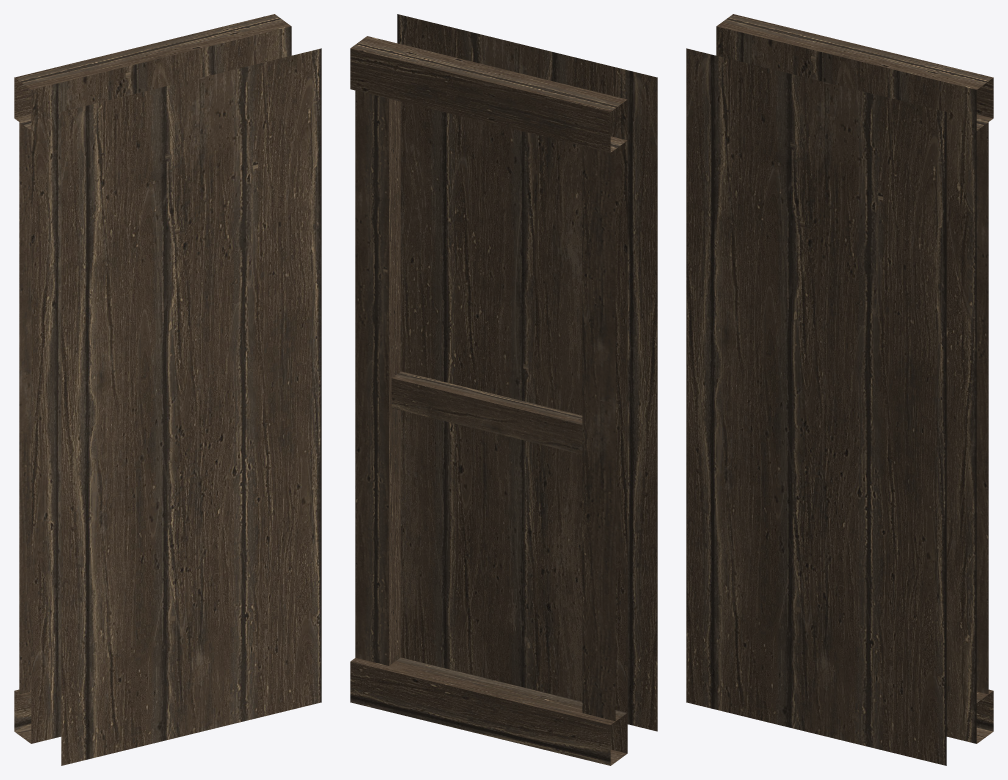
File: ARC1010335.fbx
The picture shows the model from 3 angles, left to right: view 1: azimuth 30°, elevation 25°; view 2: azimuth 150°, elevation 25°; view 3: azimuth 330°, elevation 25°; orthographic projection.
Parts seen in each view (by area): view 1: smARC1010335; view 2: smARC1010335; view 3: smARC1010335.
Part boxes in pixels (x1,y1,x2,y2): smARC1010335: (14, 14, 321, 765); smARC1010335: (350, 14, 657, 765); smARC1010335: (686, 14, 993, 765).
Bounding box in the file's own units: 112 × 268 × 34.9.
Materials: 1 (1 with a texture image).
